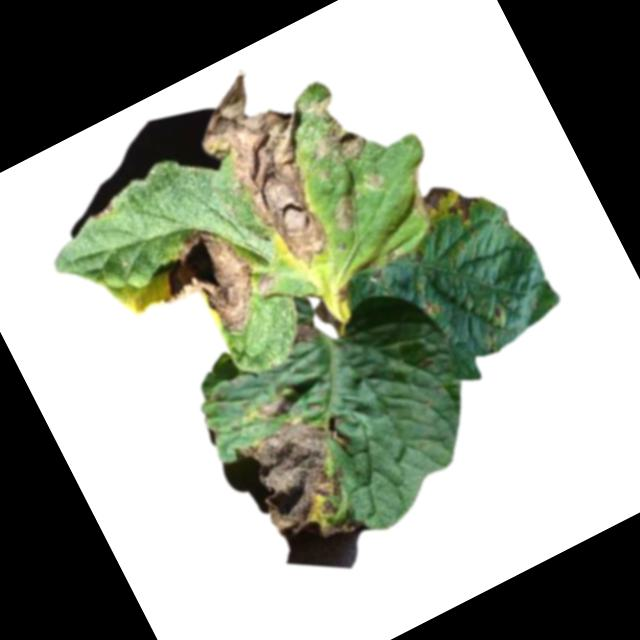Early_blight: (177, 56, 364, 286), (234, 406, 377, 565), (143, 214, 274, 354), (289, 88, 370, 178), (418, 172, 486, 236), (326, 192, 365, 235), (311, 298, 344, 338), (251, 393, 291, 426), (286, 316, 322, 351), (252, 272, 280, 298), (364, 172, 386, 195)
